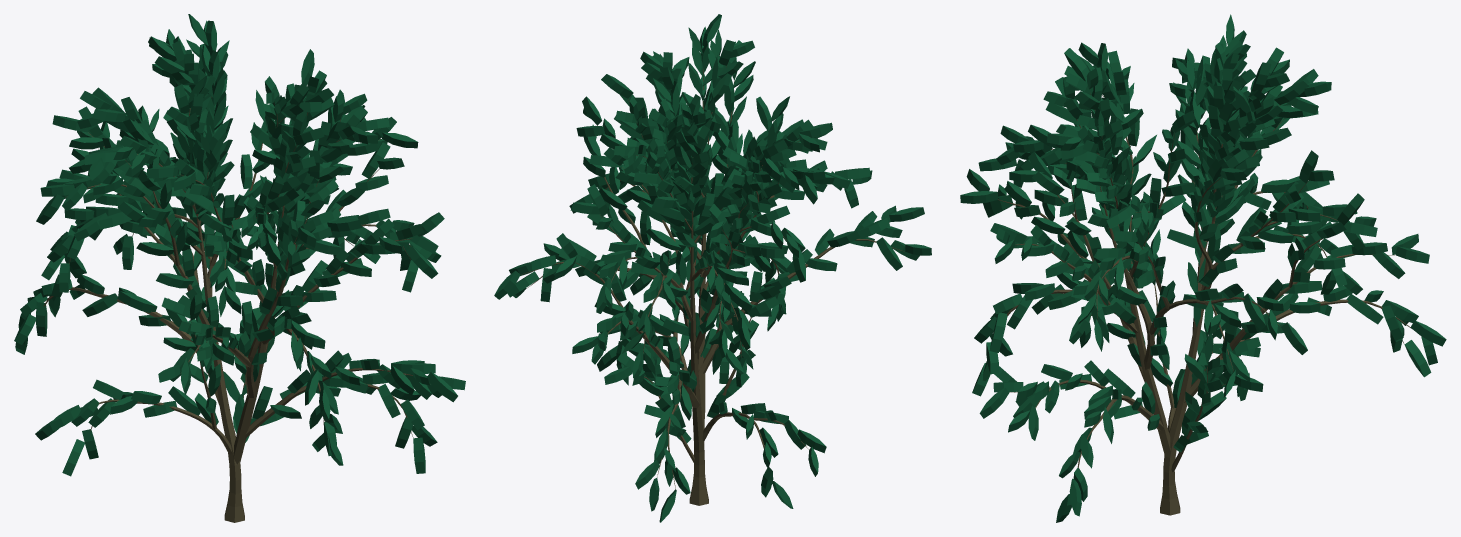
The model's file is littleLeavesShrub.fbx.
The picture shows the model from 3 angles, left to right: view 1: azimuth 30°, elevation 25°; view 2: azimuth 150°, elevation 25°; view 3: azimuth 270°, elevation 25°; orthographic projection. The views are drawn at different scales.
Parts seen in each view (by area): view 1: littleLeavesShrub; view 2: littleLeavesShrub; view 3: littleLeavesShrub.
Part boxes in pixels (x1,y1,x2,y2): littleLeavesShrub: (14, 14, 465, 522); littleLeavesShrub: (494, 14, 931, 522); littleLeavesShrub: (960, 14, 1446, 522).
Size of the model in its own units: 98.28 by 132 by 122.
